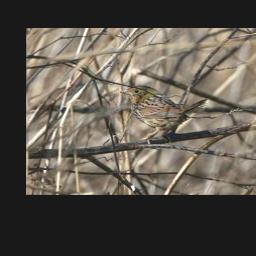Sparrow: (118, 83, 210, 145)
